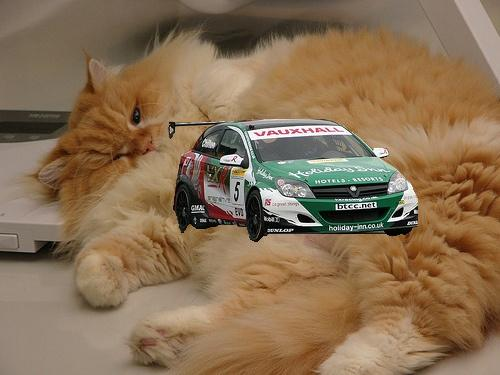tampered: (169, 120, 418, 242)
